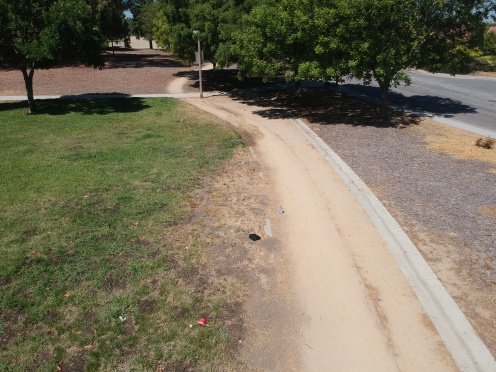bottle: (274, 201, 288, 218)
